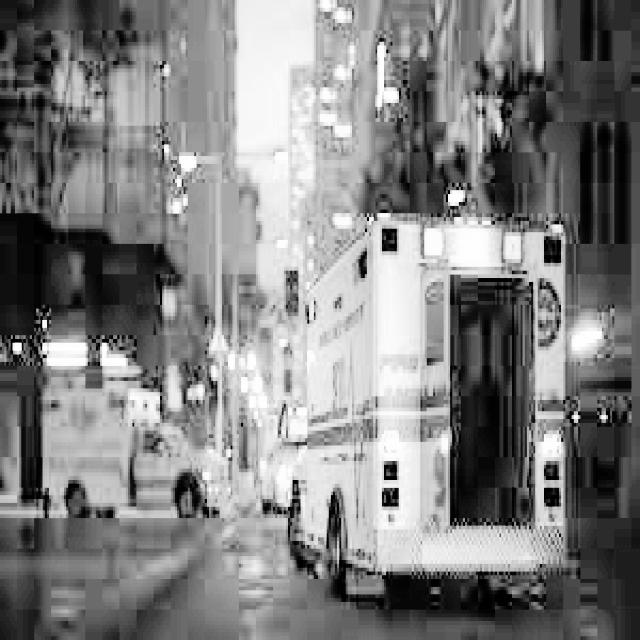Ambulance: (287, 202, 573, 587)
